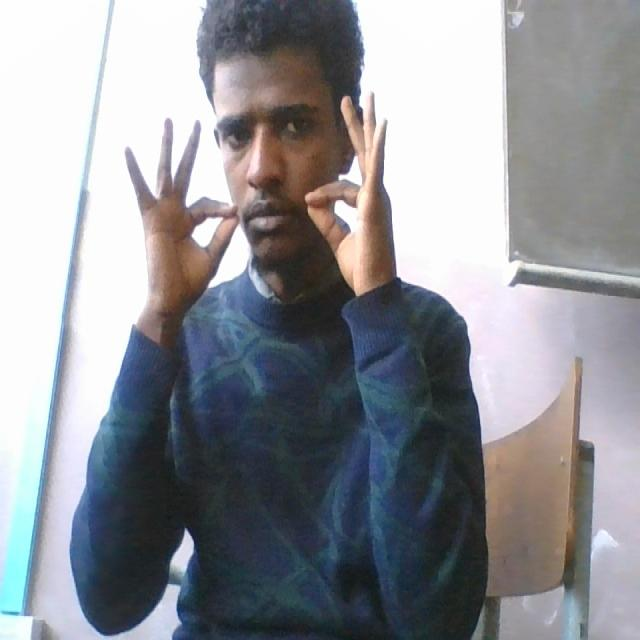dmet: (118, 86, 402, 318)
